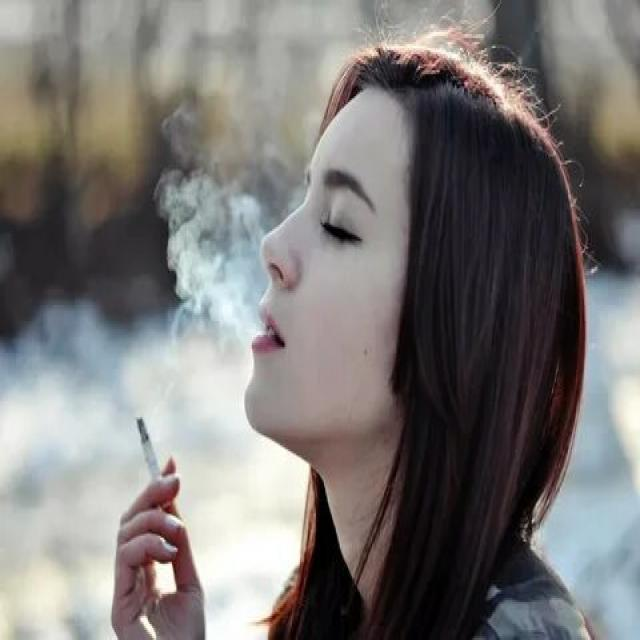smoke: (132, 407, 173, 488)
